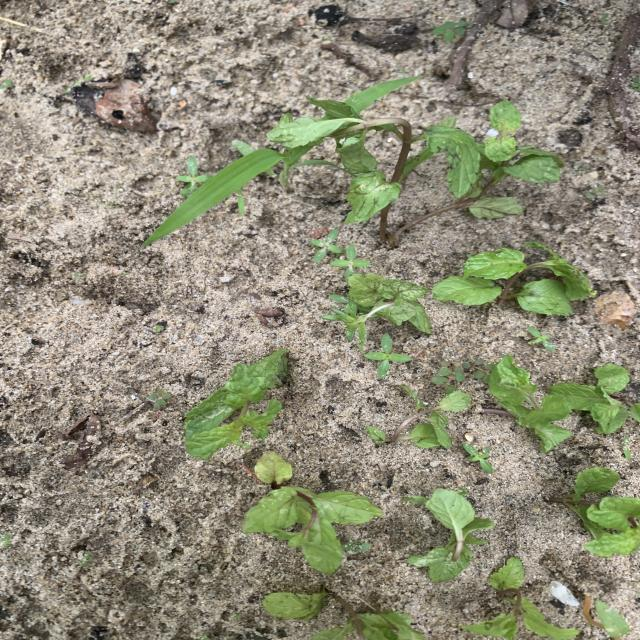crop: (268, 96, 563, 247), (242, 452, 382, 574), (432, 243, 595, 314), (184, 350, 284, 456), (462, 558, 579, 639), (484, 354, 570, 450), (403, 488, 491, 581), (262, 589, 424, 639), (551, 467, 639, 554), (336, 276, 431, 346), (550, 364, 640, 434), (367, 385, 467, 446)
weed: (141, 144, 316, 246), (583, 594, 629, 638), (366, 335, 411, 376), (176, 156, 212, 197), (332, 244, 371, 278), (312, 230, 340, 261), (464, 443, 491, 472), (433, 20, 471, 40), (432, 362, 466, 381), (528, 328, 553, 350), (463, 360, 486, 379), (148, 389, 171, 406), (344, 541, 370, 551), (586, 186, 603, 199), (79, 552, 91, 567), (1, 533, 11, 547), (623, 436, 629, 458)
